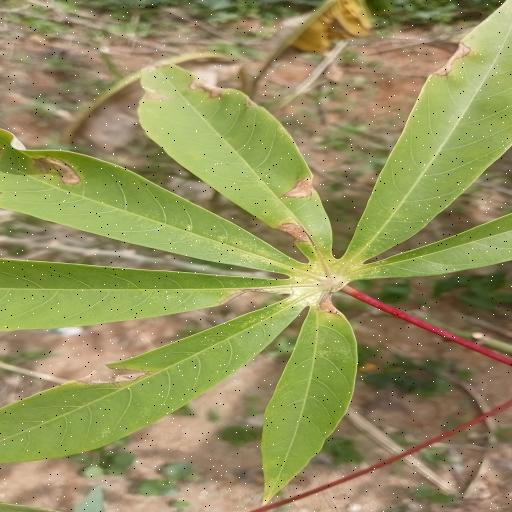Cassava_Root_Rot: (3, 18, 512, 490)
